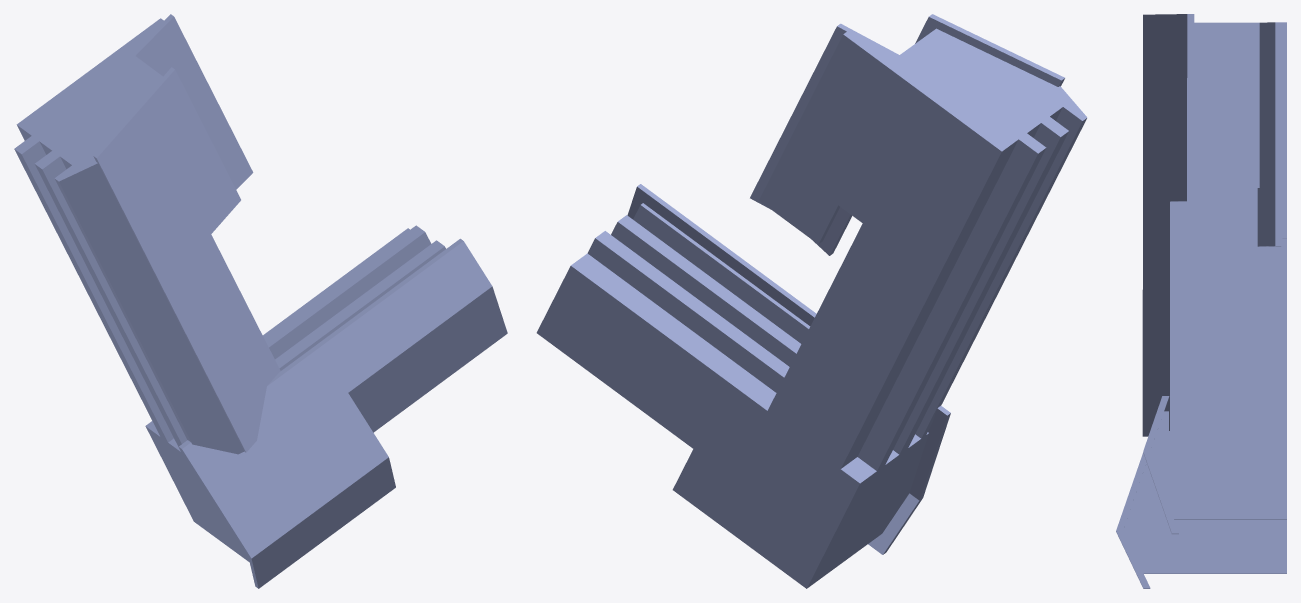
Rendered from raffles-hall3.glb.
3 views of the same model, side by side, from view 1: azimuth 30°, elevation 25°; view 2: azimuth 150°, elevation 25°; view 3: azimuth 270°, elevation 25° (orthographic). The views are drawn at different scales.
Parts seen in each view (by area): view 1: Raffles Hall Blk 6; view 2: Raffles Hall Blk 6; view 3: Raffles Hall Blk 6.
Part boxes in pixels (x1,y1,x2,y2): Raffles Hall Blk 6: (14,14,507,588); Raffles Hall Blk 6: (536,14,1087,588); Raffles Hall Blk 6: (1116,14,1286,588).
Size of the model in its own units: 38.82 by 43.44 by 12.11.
